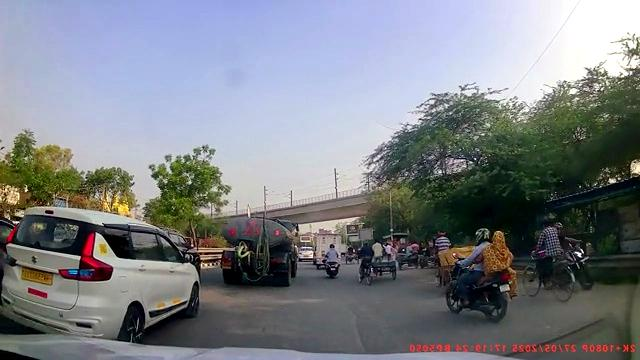passenger_without_helmet: (444, 225, 515, 324)
